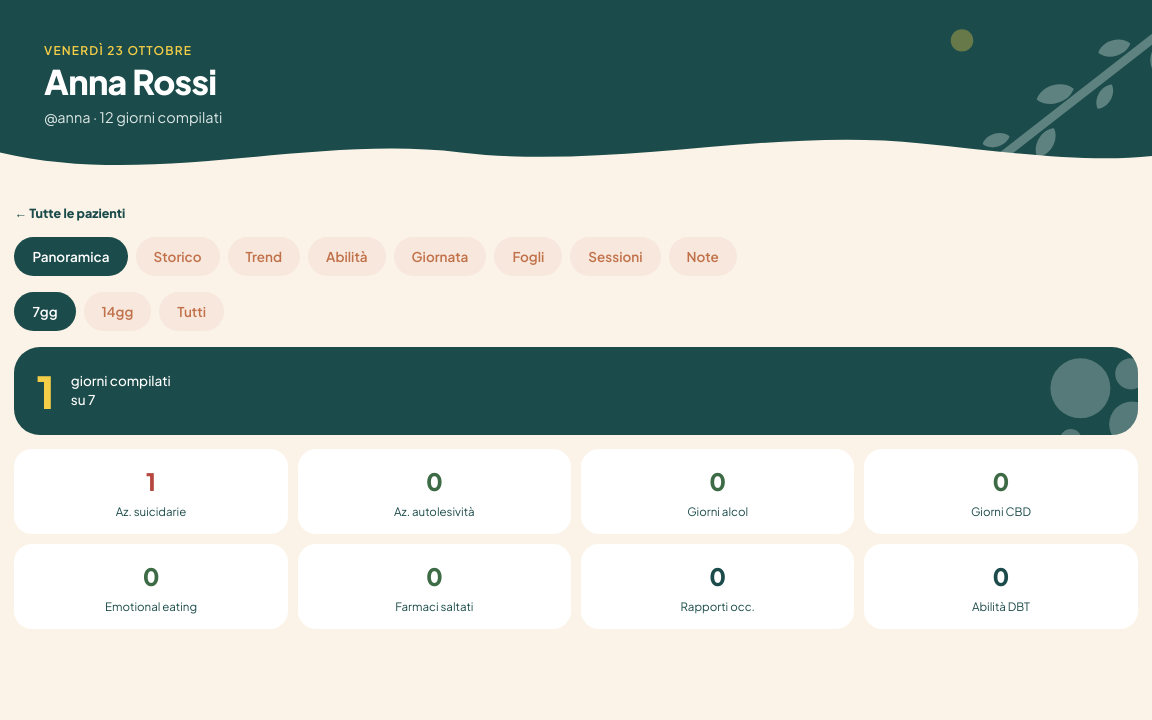
scheda paziente › nello storico si apre il dettaglio di un giorno e con "Tutti" compaiono i più vecchi
Expected: the text "Az. suicidarie" is shown, [116,505,186,520]
Click the button "Storico" at (178, 256), box [136,237,220,276]
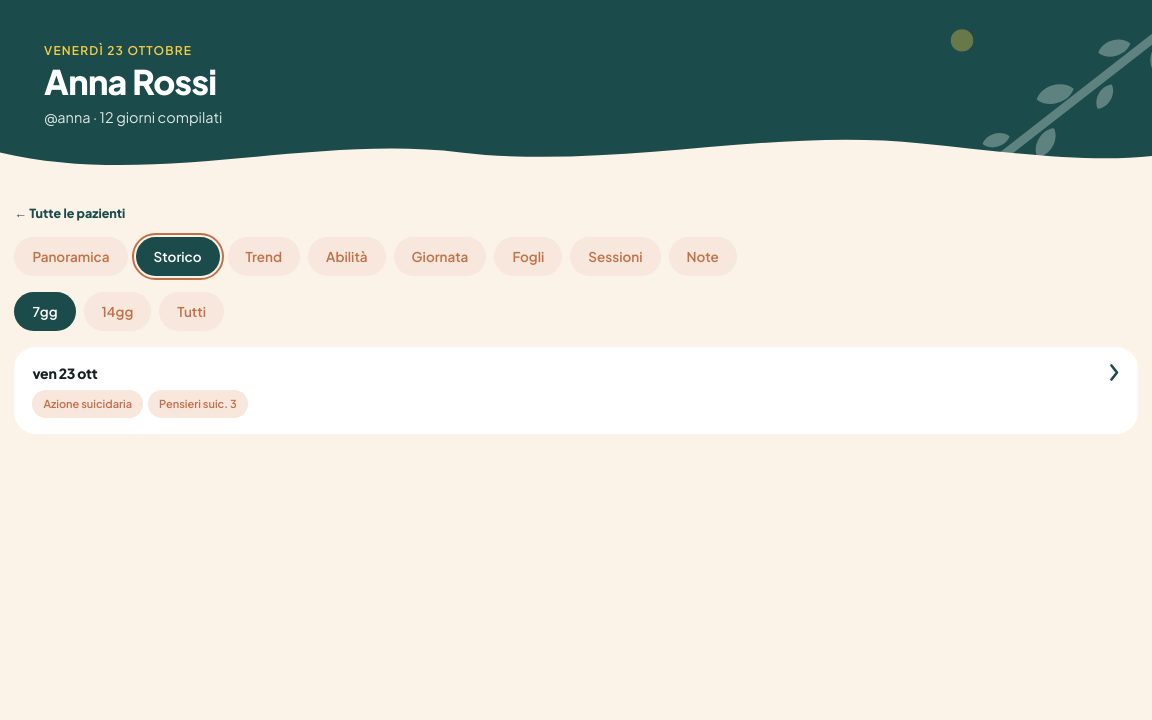
Expected: the text "vino" is not shown
Click the button "Tutti" at (192, 311), box [159,292,224,331]
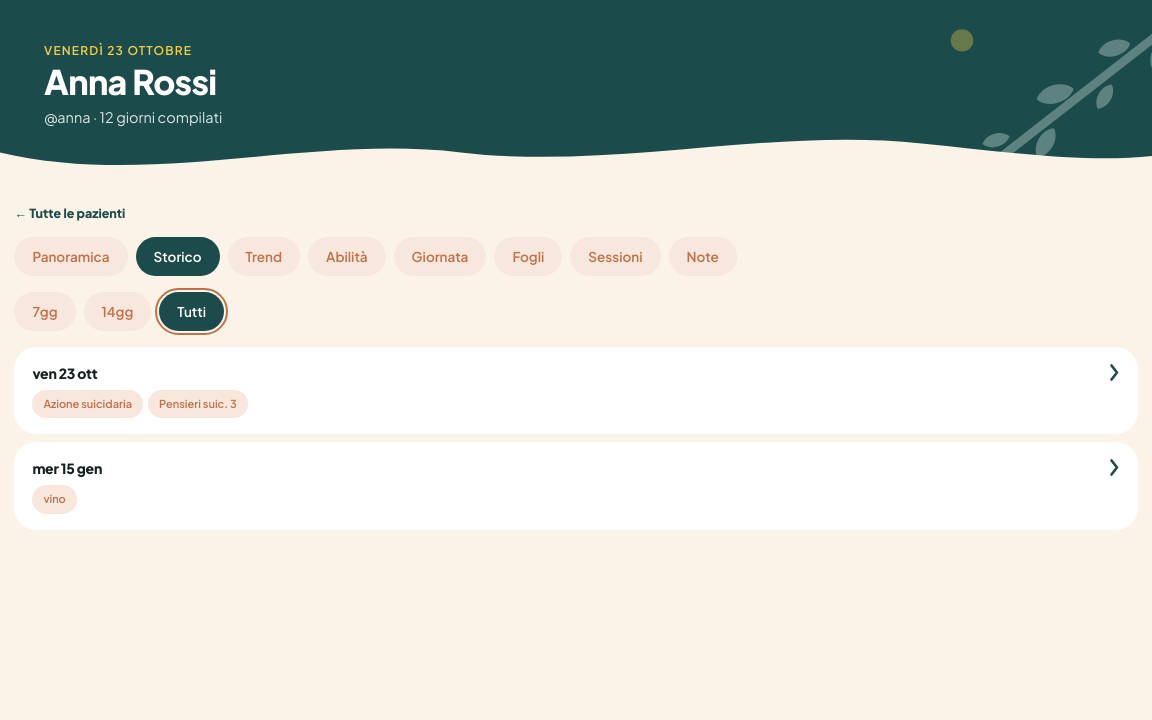
Now the text "vino" is shown, box [32,485,77,514]
Click the text "Pensieri suic. 3" at (198, 404), box [148,390,248,418]
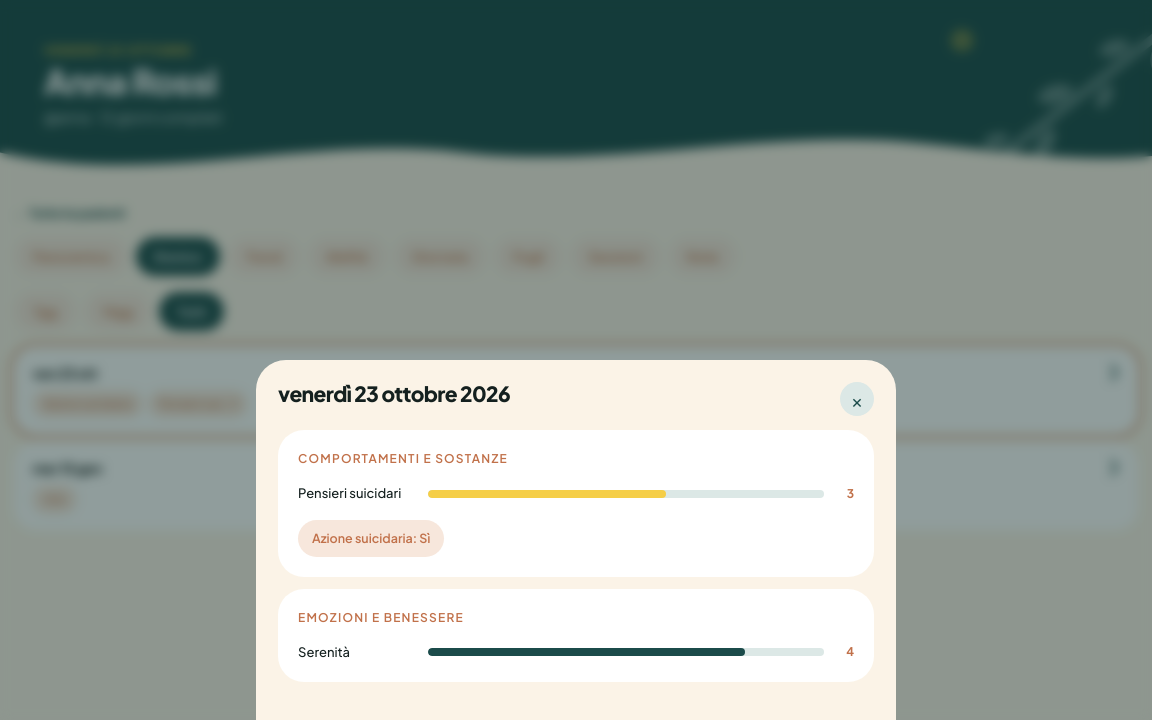
Now the heading "Comportamenti e sostanze" is shown, box [298,451,508,466]
